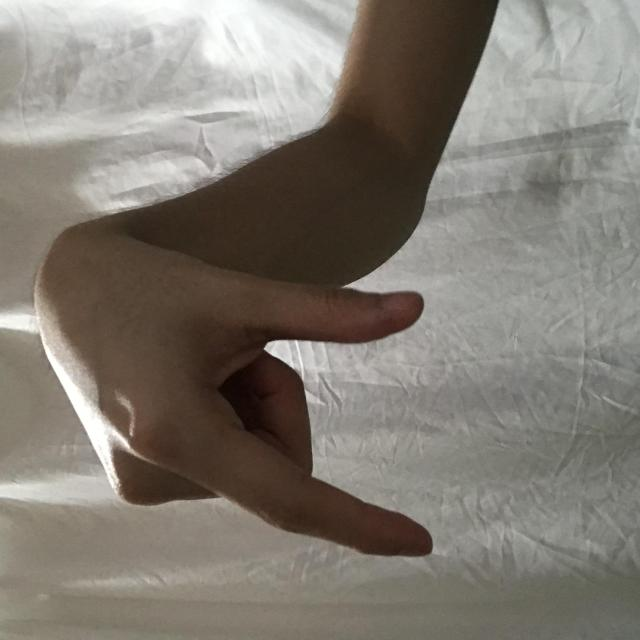Q: (80, 36, 404, 433)
